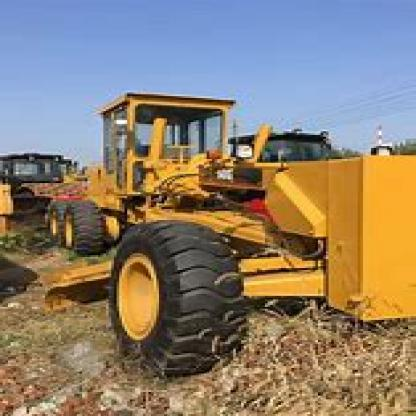bull_dozer/loader/grader: (29, 70, 413, 372)
